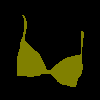reggiseno: (17, 15, 84, 87)
